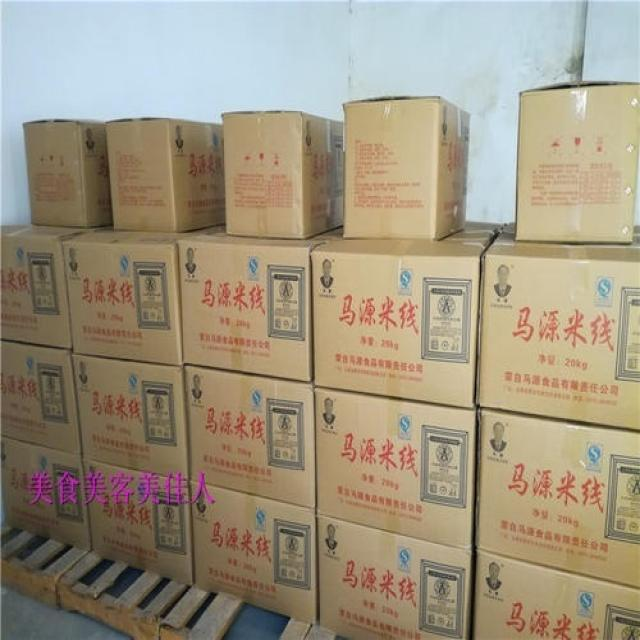box: (311, 222, 507, 407), (476, 220, 639, 432), (473, 410, 639, 589), (314, 386, 475, 552), (177, 224, 344, 382), (59, 224, 226, 365), (515, 81, 639, 244), (316, 512, 472, 639), (185, 366, 316, 510), (190, 480, 319, 624), (343, 95, 470, 238), (222, 112, 344, 239), (70, 354, 190, 479), (474, 550, 639, 639), (103, 119, 227, 233), (83, 456, 192, 584), (0, 216, 89, 352), (0, 437, 89, 553), (25, 119, 111, 230), (0, 340, 81, 454)
